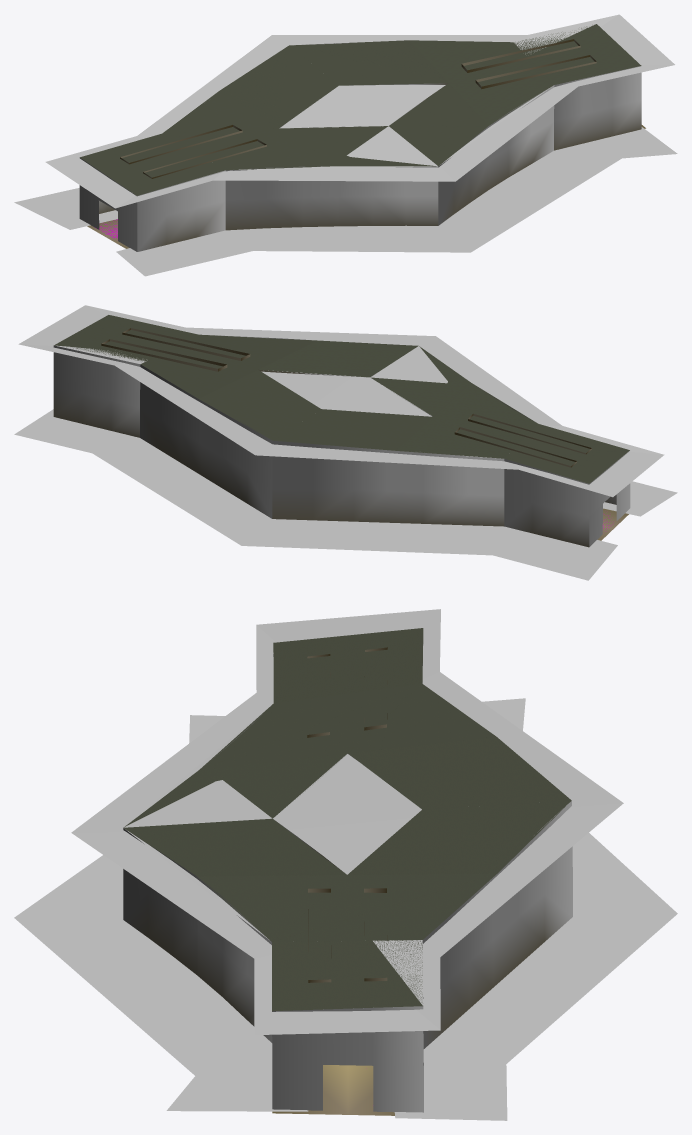
File: office_diamond_room.fbx
3 views of the same model, one above another, from view 1: azimuth 30°, elevation 25°; view 2: azimuth 150°, elevation 25°; view 3: azimuth 270°, elevation 25° (orthographic). The views are drawn at different scales.
Parts seen in each view (by area): view 1: Ceiling3, groundShadow_1, CeilingShadow_5, W8, Ceiling, W6, W12, W9, LongLights:Lights1, LongLights:Lights2, wall, wall31 (+4 smaller); view 2: Ceiling3, groundShadow_1, W10, CeilingShadow_5, W14, Ceiling, W16, W13, LongLights:Lights1, LongLights:Lights2, LongLights:Lights4, LongLights:Lights6 (+1 smaller); view 3: Ceiling3, groundShadow_1, CeilingShadow_5, Ceiling, W14, W15, W9, floor.
Boxes of the visible parts, x1,y1,x2,y2 form: Ceiling3: [80, 24, 641, 195]; groundShadow_1: [14, 127, 677, 276]; CeilingShadow_5: [45, 14, 674, 208]; W8: [225, 166, 438, 230]; Ceiling: [230, 24, 595, 170]; W6: [554, 66, 641, 150]; W12: [137, 170, 225, 251]; W9: [438, 85, 554, 225]; LongLights:Lights1: [461, 39, 580, 72]; LongLights:Lights2: [475, 55, 596, 89]; wall: [79, 189, 99, 229]; wall31: [118, 211, 137, 251]; Ceiling3: [54, 315, 629, 483]; groundShadow_1: [14, 409, 677, 580]; W10: [272, 440, 504, 526]; CeilingShadow_5: [18, 305, 664, 497]; W14: [140, 364, 272, 518]; Ceiling: [56, 345, 534, 421]; W16: [53, 345, 140, 437]; W13: [504, 459, 589, 547]; LongLights:Lights1: [101, 339, 227, 371]; LongLights:Lights2: [122, 328, 250, 360]; LongLights:Lights4: [454, 427, 576, 467]; LongLights:Lights6: [468, 414, 591, 454]; Ceiling3: [123, 628, 571, 1011]; groundShadow_1: [14, 698, 677, 1120]; CeilingShadow_5: [71, 609, 623, 1035]; Ceiling: [124, 653, 423, 1005]; W14: [422, 801, 572, 1048]; W15: [272, 1006, 423, 1112]; W9: [123, 828, 272, 1042]; floor: [272, 1065, 394, 1115].
Size of what is drawn, in the model's own units: 305 by 38.22 by 197.
